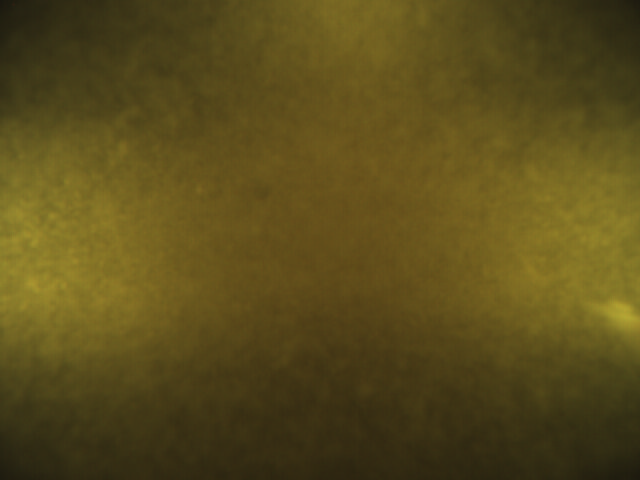shrimp: (570, 280, 640, 334)
